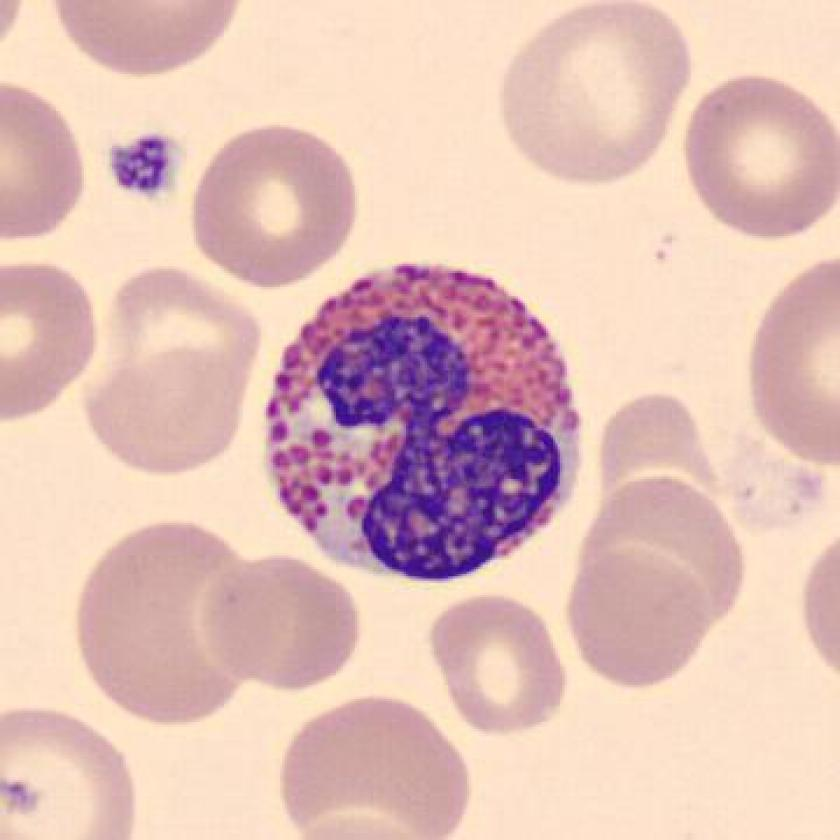eosinophil: (251, 249, 589, 596)
